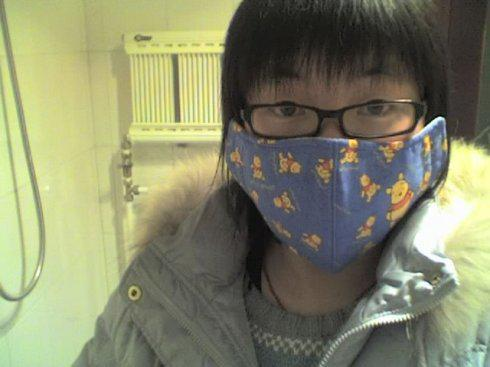OK: (241, 57, 427, 257)
